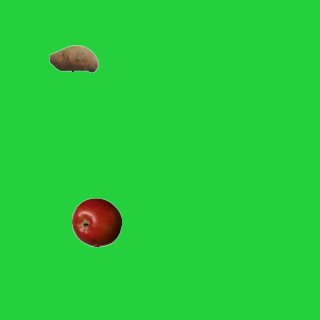Apple Braeburn: (71, 197, 121, 247)
Potato Sweet: (48, 33, 98, 83)
